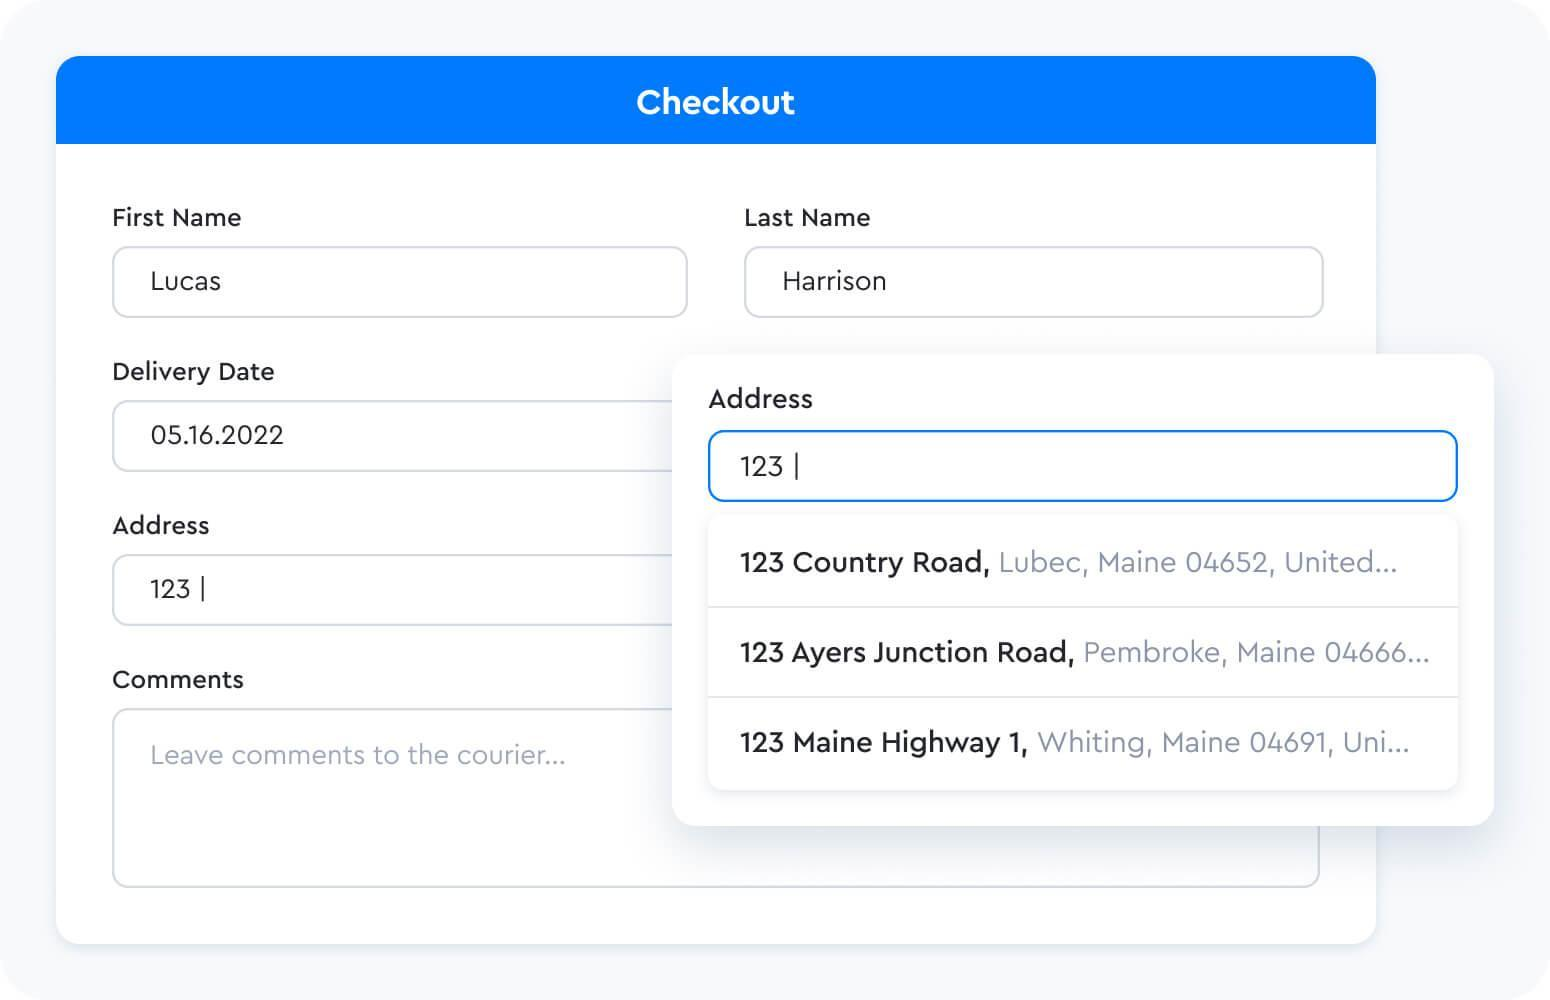input: (709, 431, 1461, 503), (110, 242, 689, 322), (744, 245, 1329, 323)
label: (632, 85, 796, 119), (111, 669, 249, 695), (108, 363, 275, 384), (113, 207, 245, 233), (709, 385, 815, 414), (743, 205, 874, 227), (113, 518, 214, 537)
